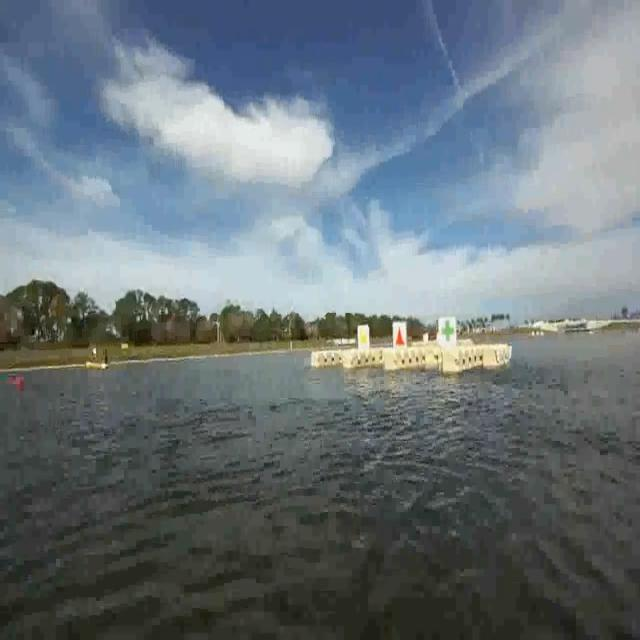blue-cross: (440, 318, 456, 348)
red-dot: (392, 321, 406, 352)
yellow-duck: (357, 327, 370, 352)
